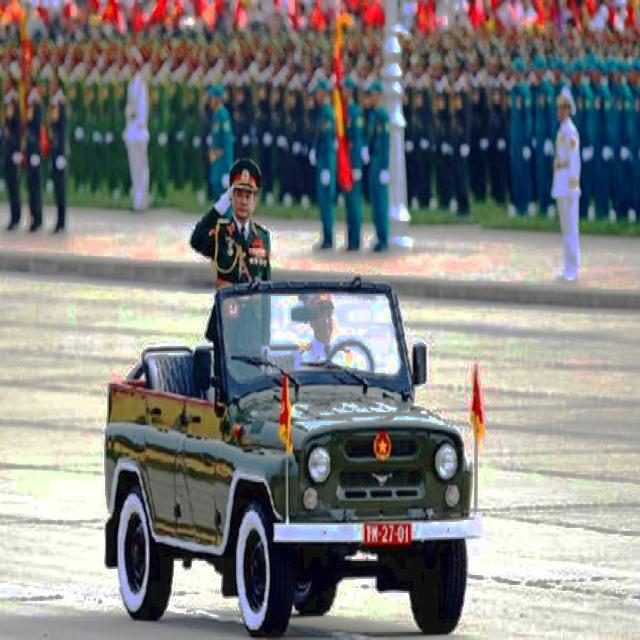license_plate: (365, 517, 414, 546)
